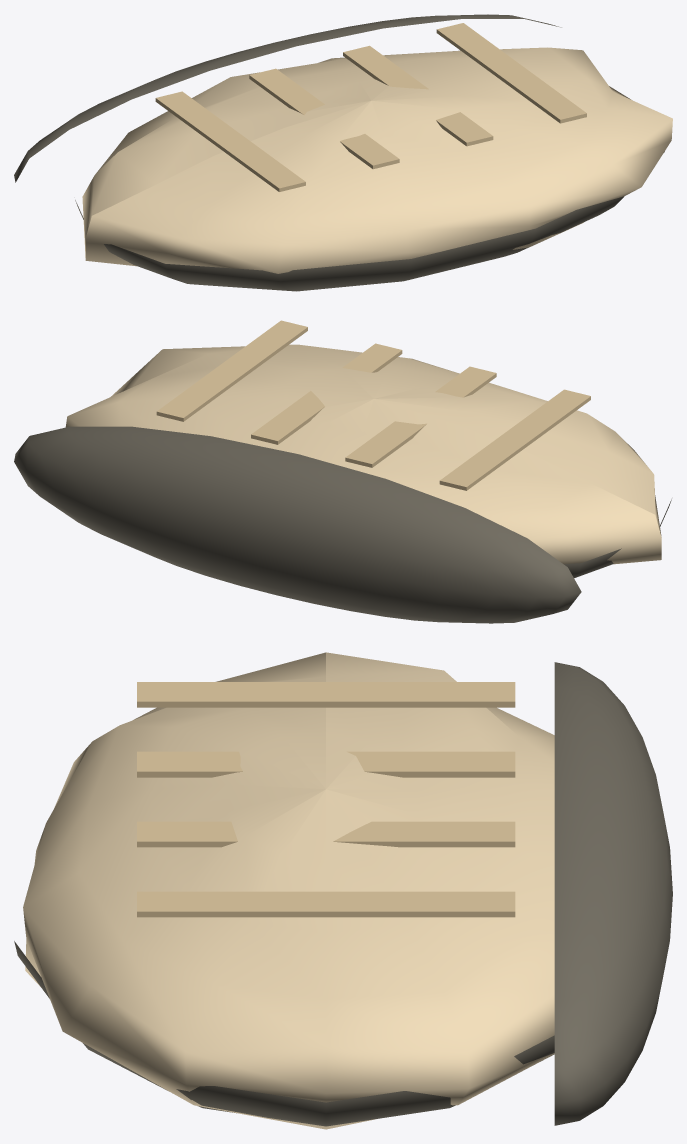
Rendered from presa-bacalao.glb.
3 views of the same model, one above another, from view 1: azimuth 30°, elevation 25°; view 2: azimuth 150°, elevation 25°; view 3: azimuth 270°, elevation 25° (orthographic). The views are drawn at different scales.
Visible parts, largest first — view 1: carne, piel, filo, veta0, veta3, veta1, veta2; view 2: filo, carne, veta3, veta0, veta1, veta2, piel; view 3: carne, filo, veta3, veta0, piel, veta2, veta1.
Part boxes in pixels (bbox=[...]): carne: bbox=[82, 47, 672, 273]; piel: bbox=[75, 151, 664, 291]; filo: bbox=[14, 14, 561, 182]; veta0: bbox=[155, 91, 305, 191]; veta3: bbox=[436, 23, 586, 123]; veta1: bbox=[249, 68, 399, 169]; veta2: bbox=[343, 45, 493, 146]; filo: bbox=[14, 426, 581, 623]; carne: bbox=[65, 344, 661, 564]; veta3: bbox=[156, 320, 307, 421]; veta0: bbox=[439, 389, 590, 490]; veta1: bbox=[345, 366, 496, 467]; veta2: bbox=[251, 343, 402, 444]; piel: bbox=[564, 499, 671, 578]; carne: bbox=[23, 652, 554, 1129]; filo: bbox=[554, 662, 672, 1125]; veta3: bbox=[137, 891, 515, 917]; veta0: bbox=[137, 682, 515, 707]; piel: bbox=[14, 941, 554, 1126]; veta2: bbox=[137, 821, 515, 847]; veta1: bbox=[137, 751, 515, 777].
Size of the model in its own units: 0.6353 by 0.1462 by 0.4179.
